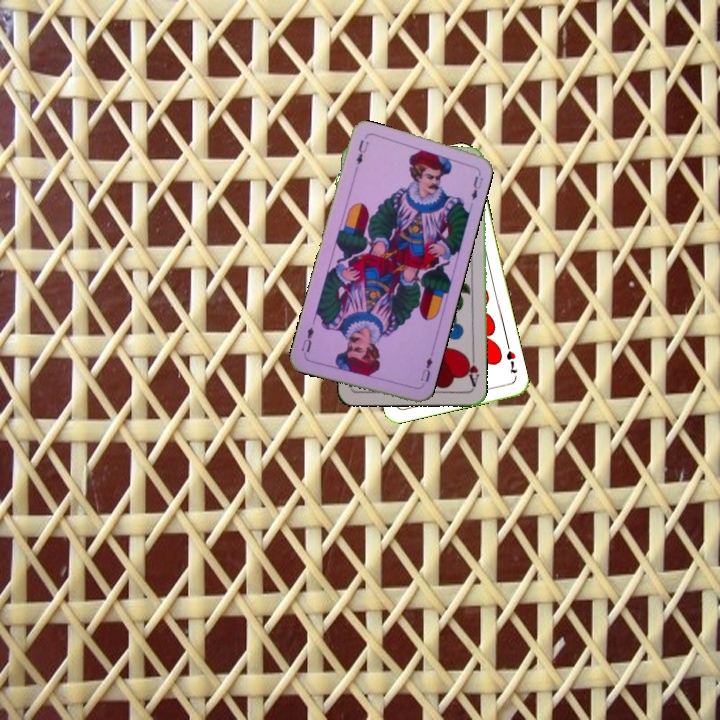EU: (416, 349, 436, 385), (352, 136, 371, 167)
H7: (502, 347, 520, 376)
HA: (462, 350, 482, 390)
